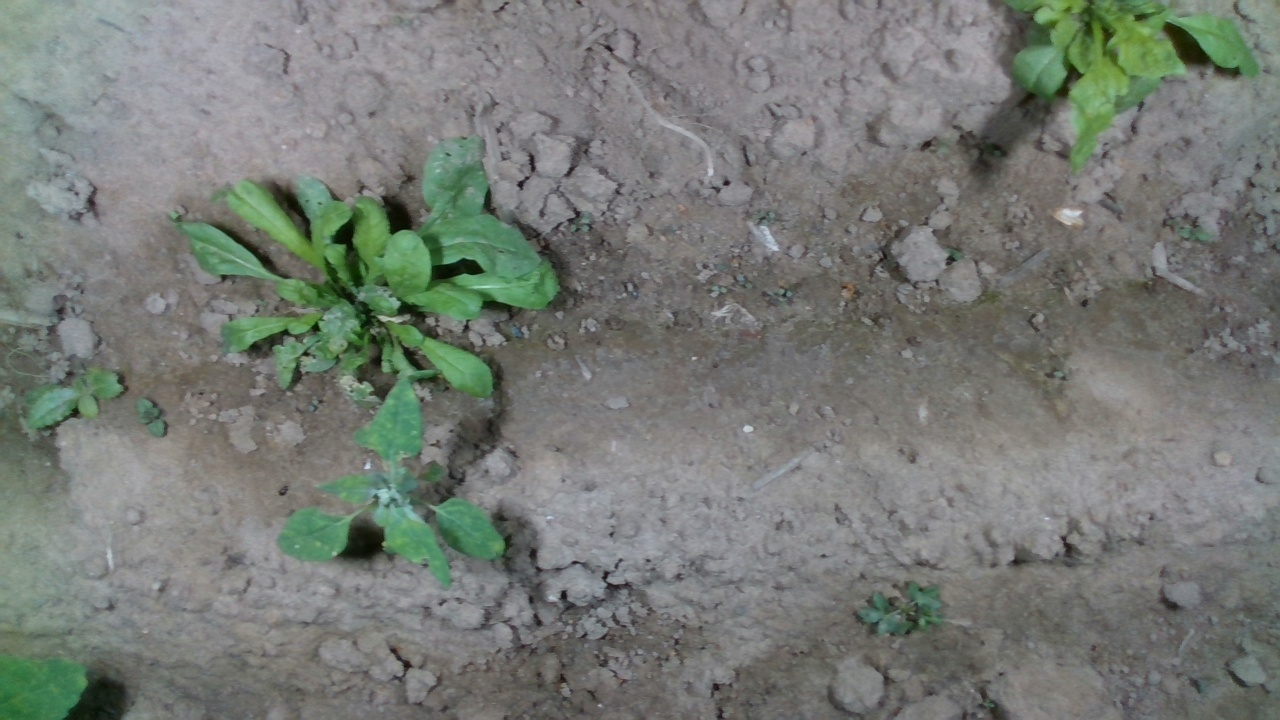weed: (24, 365, 124, 431), (133, 396, 168, 437)
